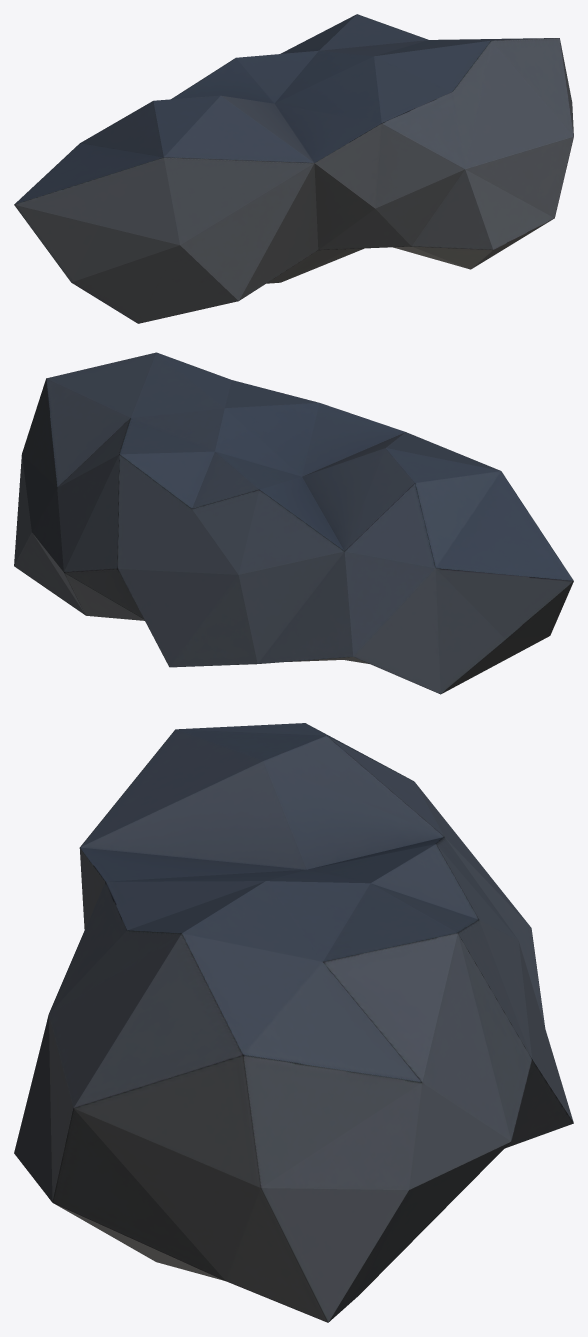
File: cloud.obj
3 renders of one model, top to bottom at view 1: azimuth 30°, elevation 25°; view 2: azimuth 150°, elevation 25°; view 3: azimuth 270°, elevation 25°, orthographic. The views are drawn at different scales.
Parts seen in each view (by area): view 1: Icosphere.002_Icosphere.003; view 2: Icosphere.002_Icosphere.003; view 3: Icosphere.002_Icosphere.003.
Part boxes in pixels (x1=…): Icosphere.002_Icosphere.003: x1=14, y1=14, x2=573, y2=323; Icosphere.002_Icosphere.003: x1=14, y1=352, x2=573, y2=694; Icosphere.002_Icosphere.003: x1=14, y1=723, x2=573, y2=1322.
Size of the model in its own units: 3.94 by 1.55 by 2.16.
1 material, 1 textured.
